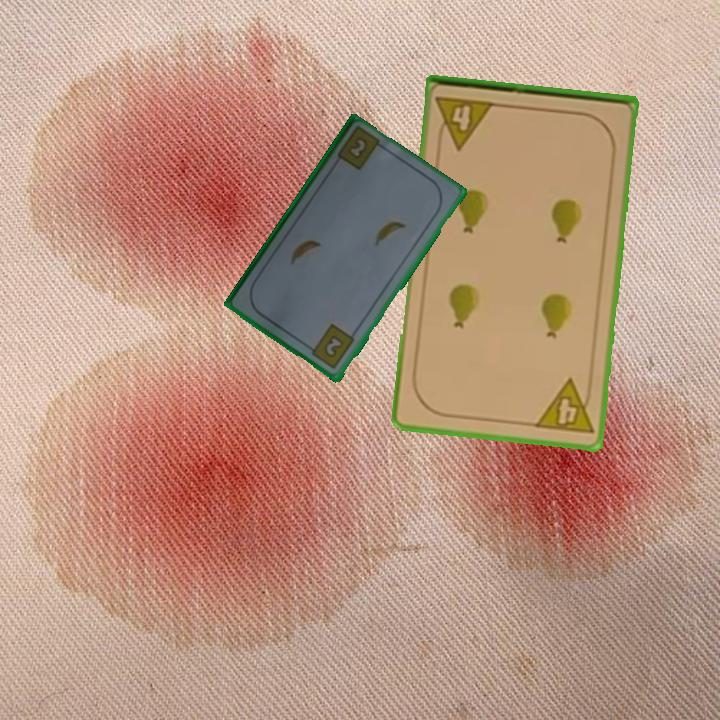2b: (305, 321, 357, 372), (344, 136, 368, 162)
4p: (531, 375, 596, 438), (432, 92, 498, 152)
